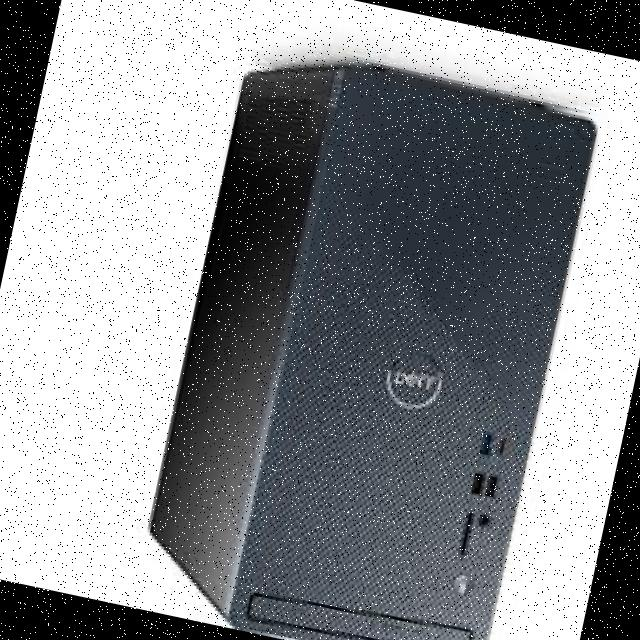Computer: (110, 35, 611, 640)
